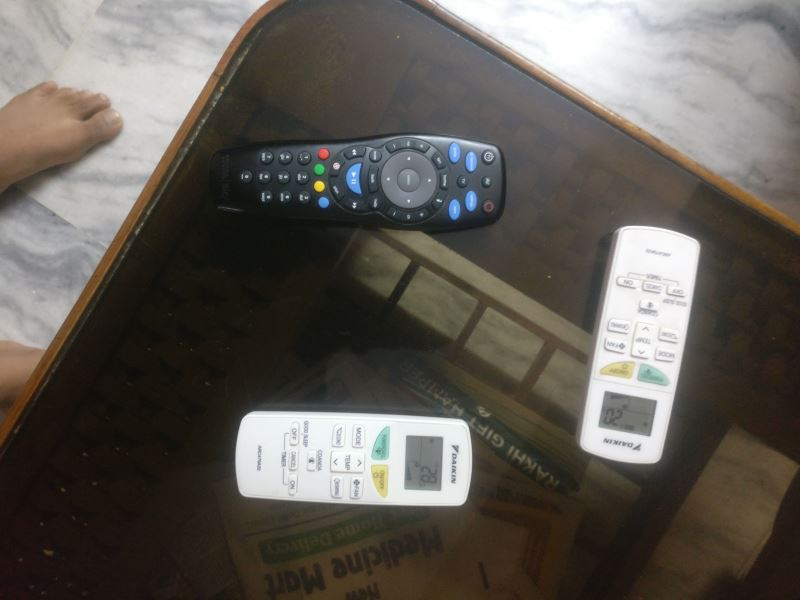ac remote: (578, 223, 702, 465), (231, 409, 475, 508)
tv remote: (206, 135, 504, 230)
